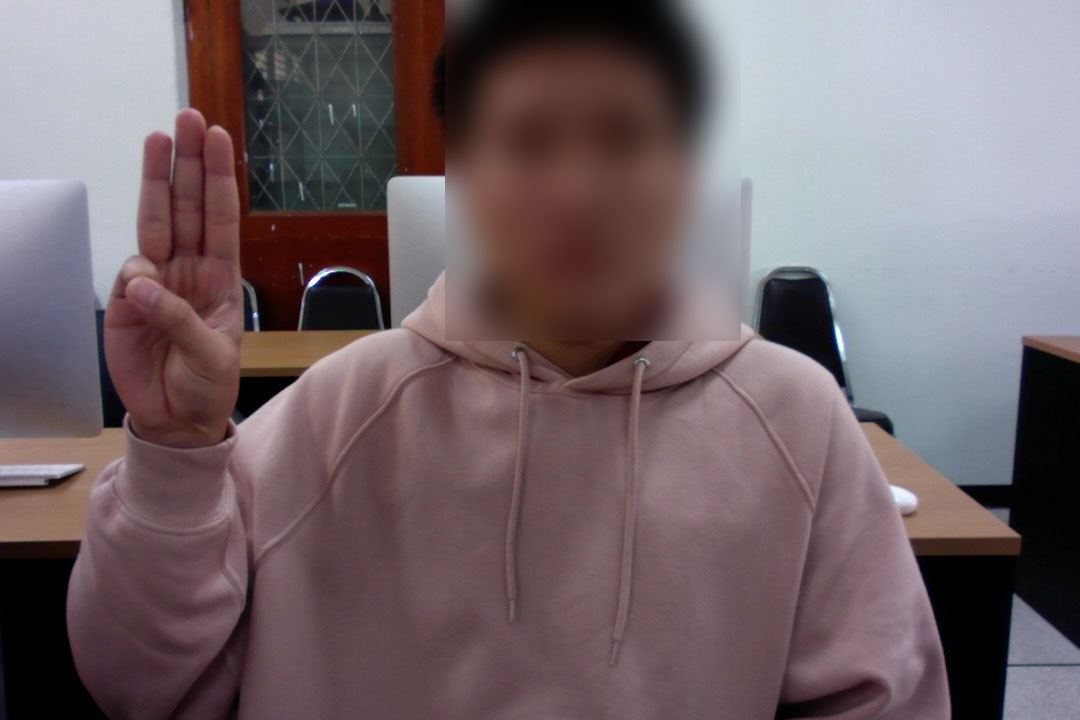wor: (92, 104, 246, 454)
